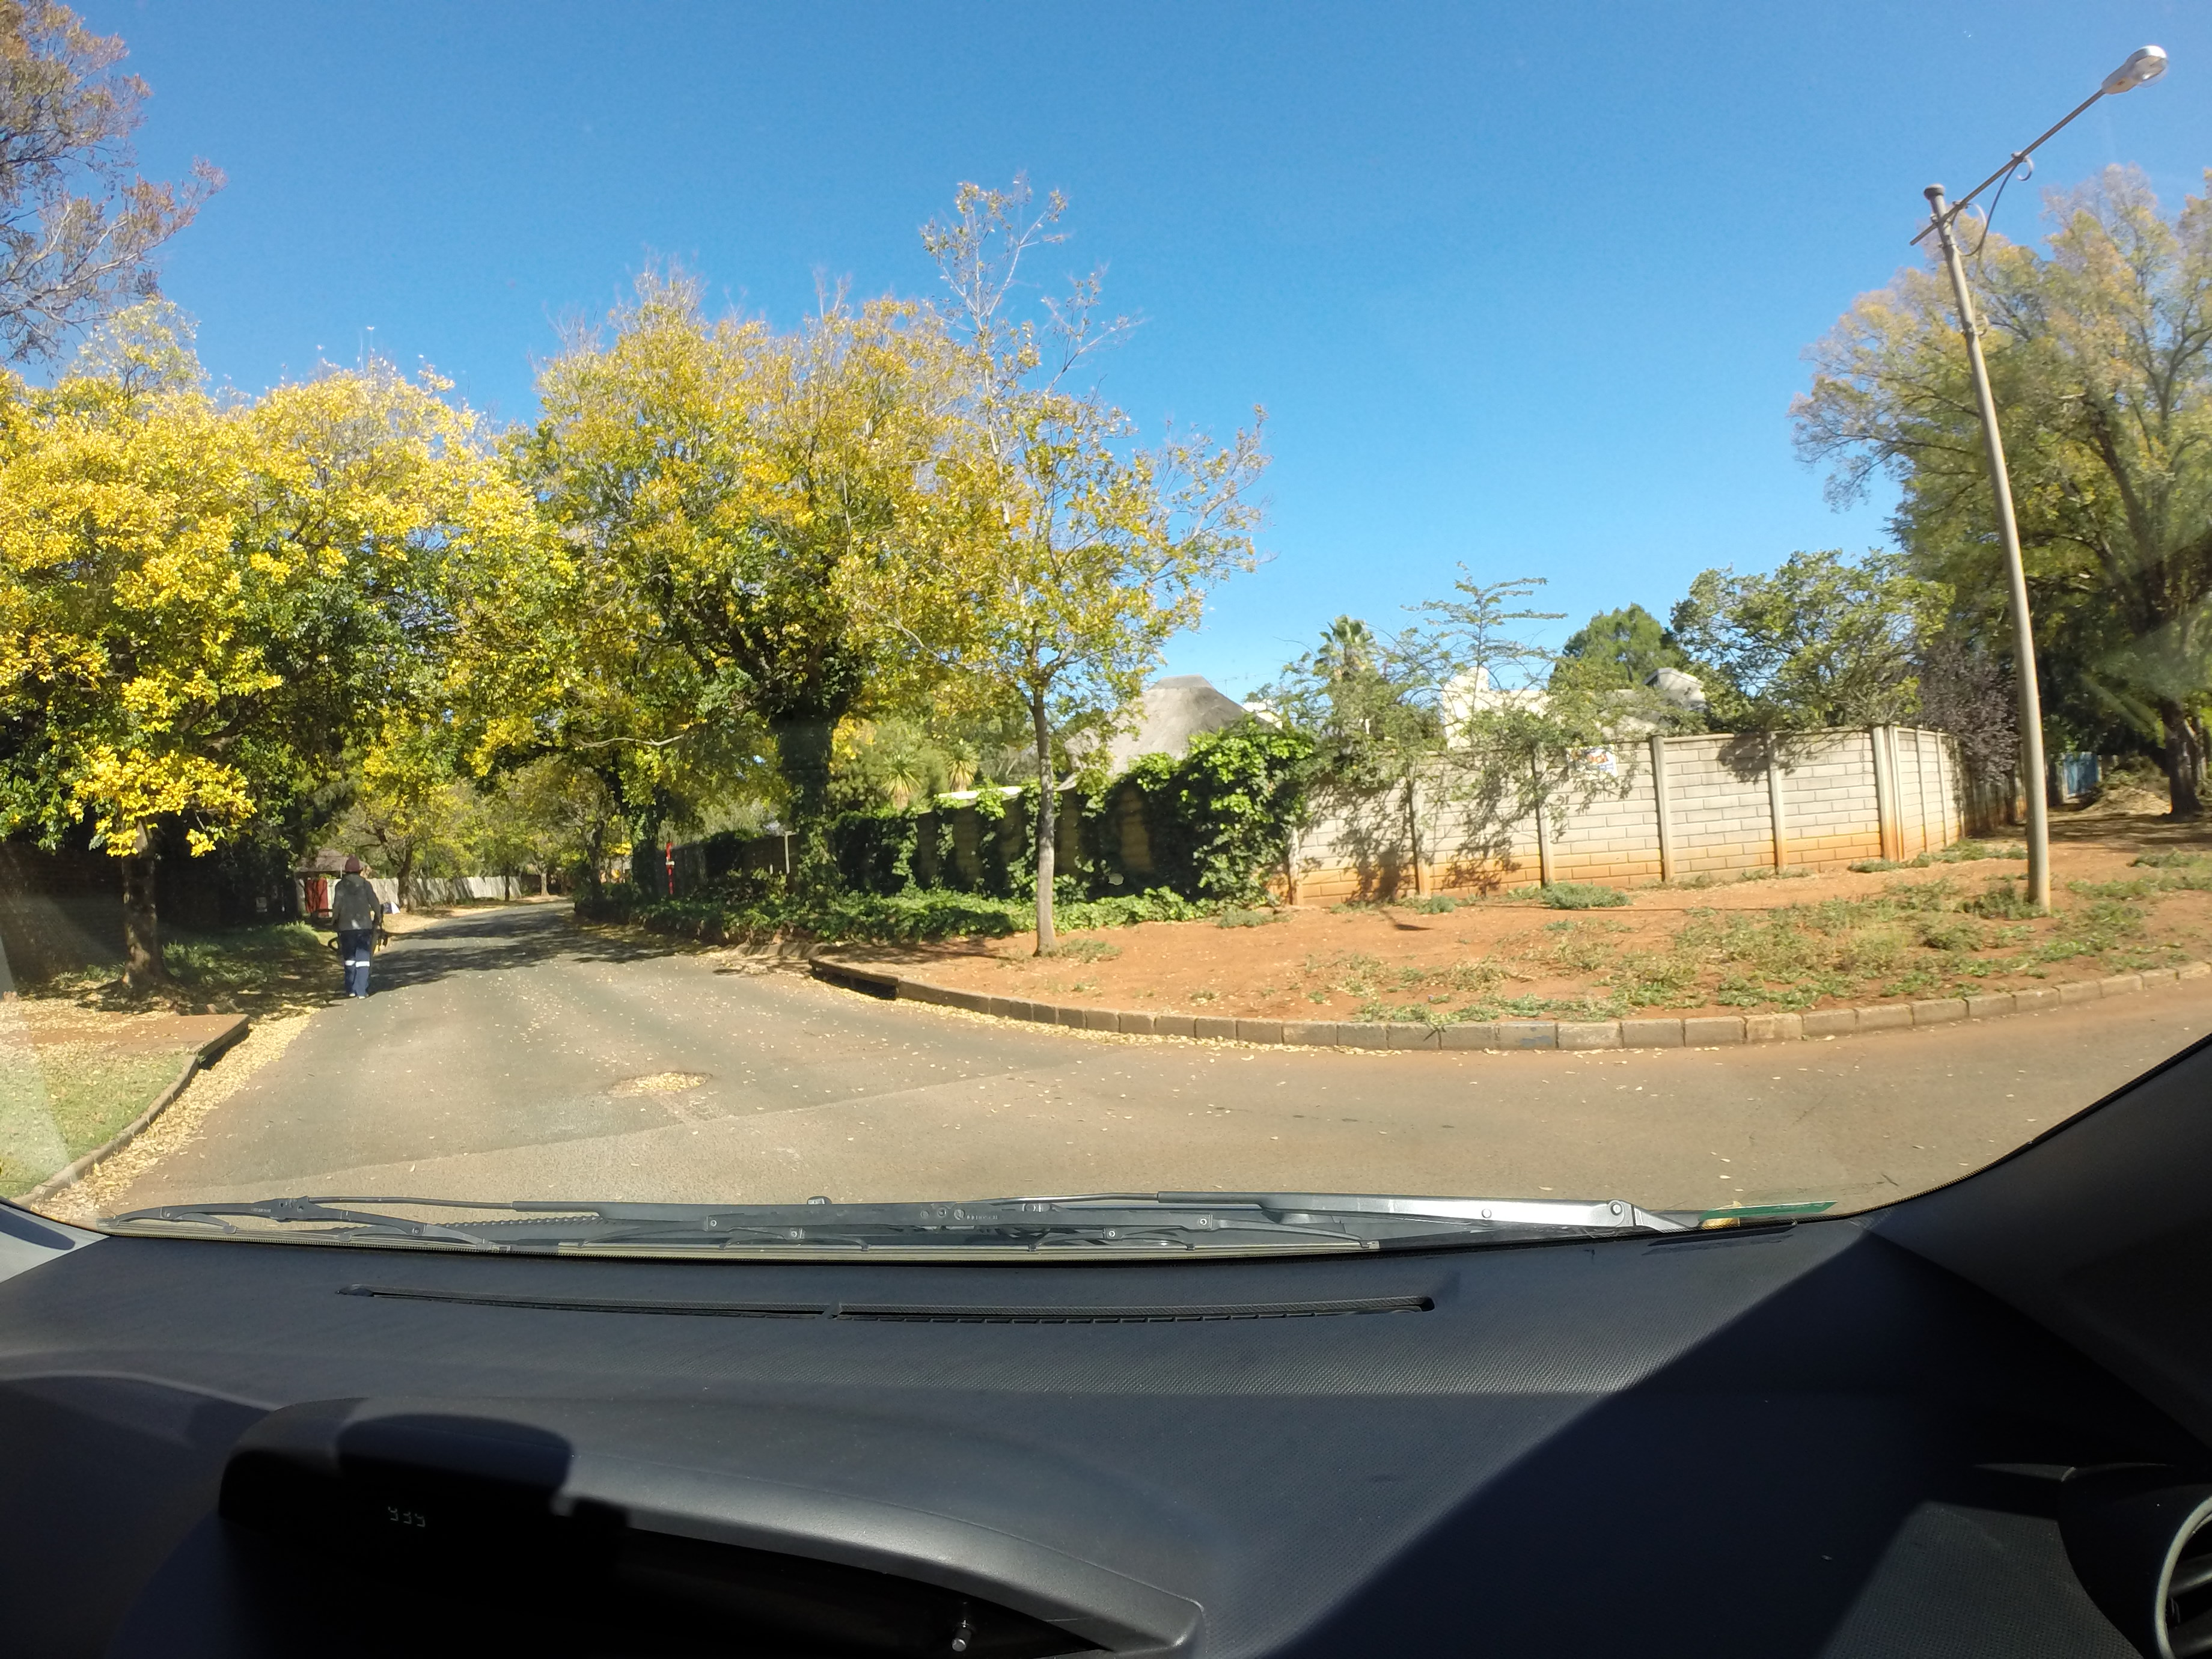pothole: (601, 1049, 742, 1122)
